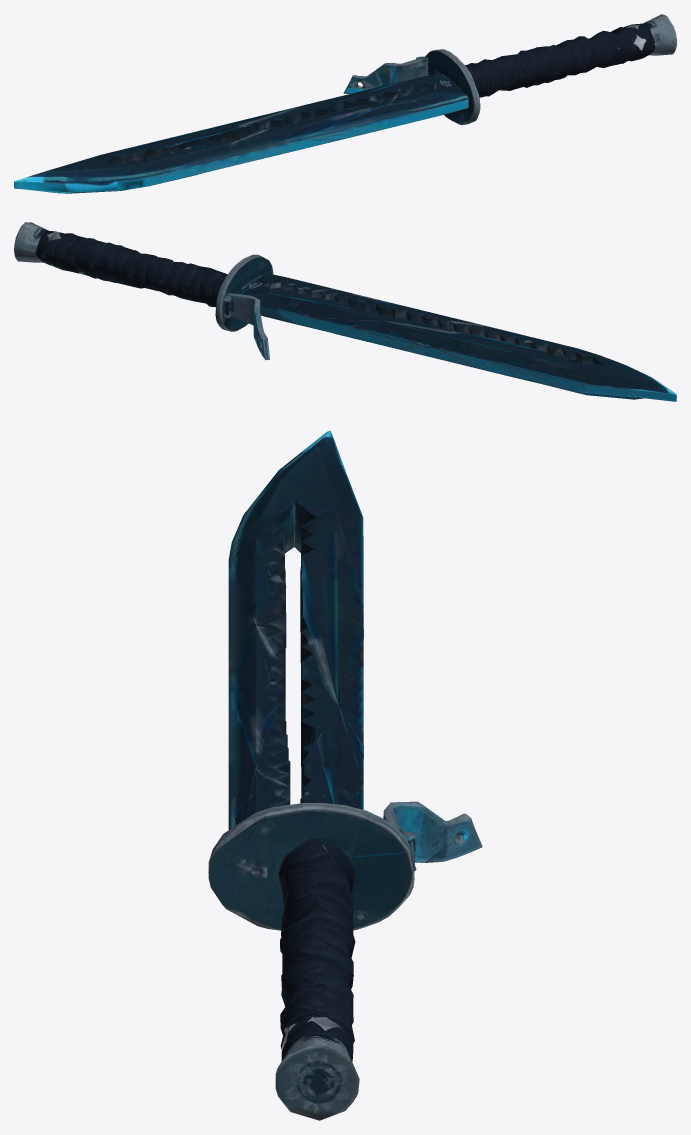
File: mx_w_katana.glb
The picture shows the model from 3 angles, top to bottom: view 1: azimuth 30°, elevation 25°; view 2: azimuth 150°, elevation 25°; view 3: azimuth 270°, elevation 25°; orthographic projection. The views are drawn at different scales.
Size of the model in its own units: 1.9 by 0.1759 by 0.3476.
Materials: 1 (1 with a texture image).
